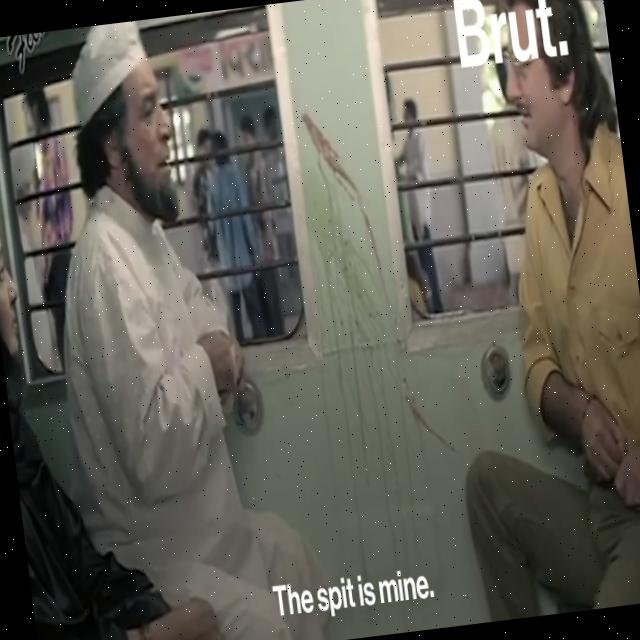spit: (296, 118, 412, 408)
